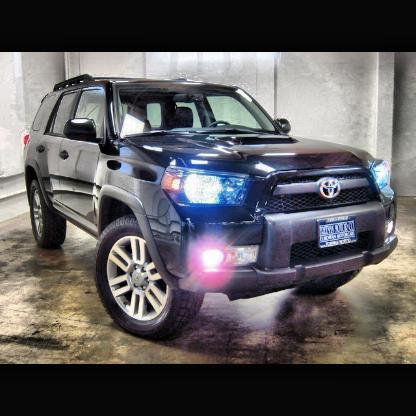Toyota 4Runner SUV 2012: (26, 72, 401, 342)
